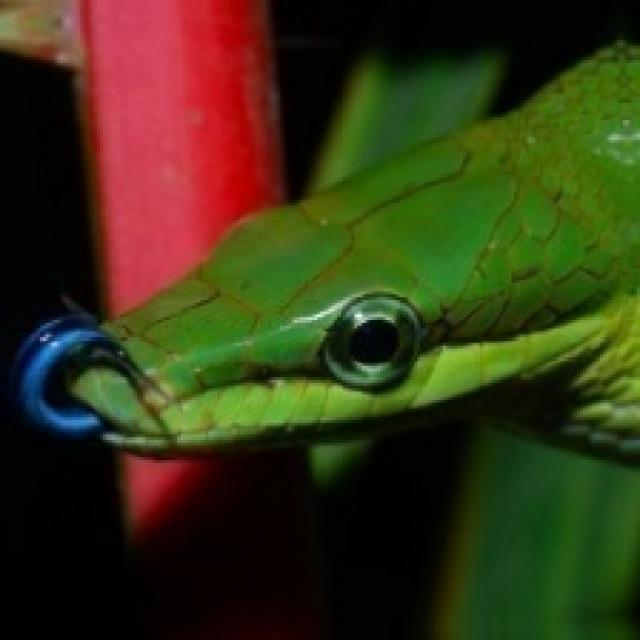red-tailed green ratsnake: (14, 43, 637, 463)
